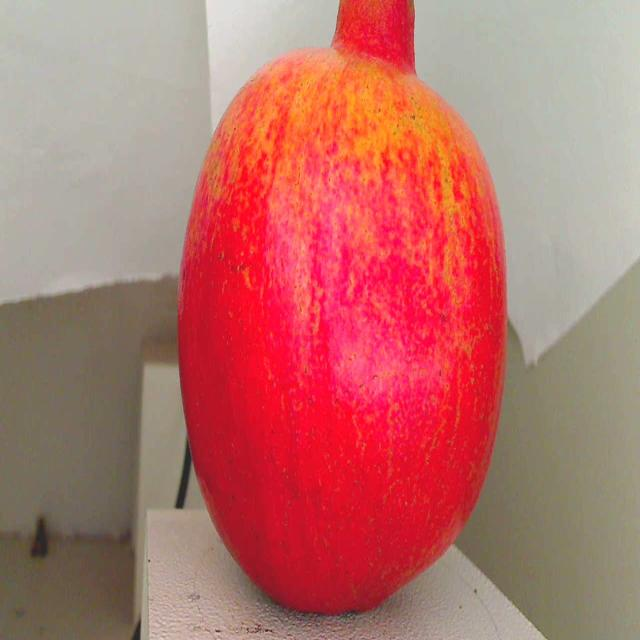pomegranate: (168, 0, 524, 640)
